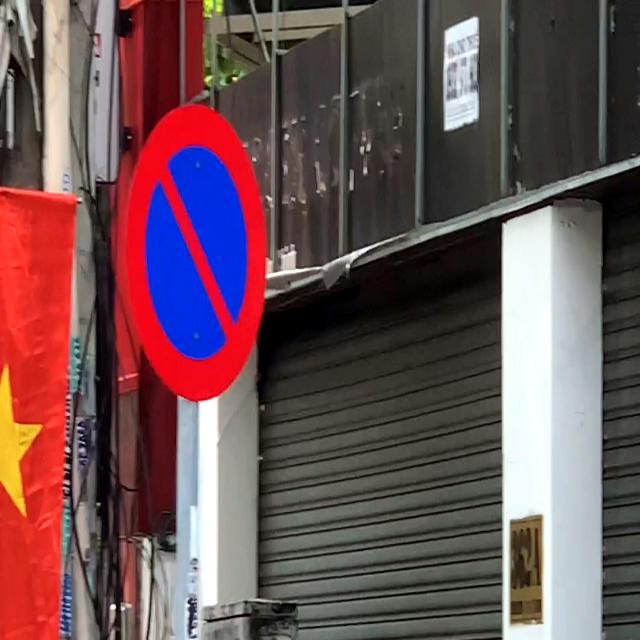P.131a: (125, 102, 268, 404)
